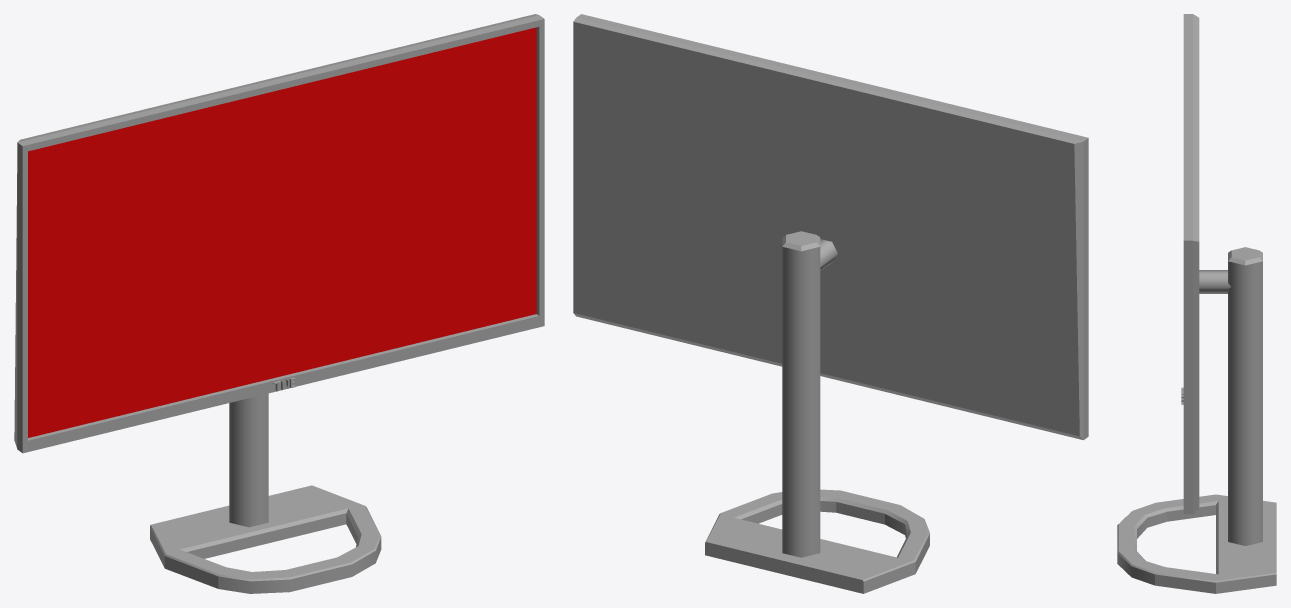
The model's file is SM_Monitor (1).fbx.
3 views of the same model, side by side, from view 1: azimuth 30°, elevation 25°; view 2: azimuth 150°, elevation 25°; view 3: azimuth 270°, elevation 25° (orthographic). The views are drawn at different scales.
Visible parts, largest first — view 1: Monitor; view 2: Monitor; view 3: Monitor.
Boxes of the visible parts, bbox=[...] form: Monitor: bbox=[14, 14, 544, 593]; Monitor: bbox=[573, 14, 1088, 593]; Monitor: bbox=[1117, 14, 1276, 593].
Size of the model in its own units: 86.02 by 74.76 by 25.58.
